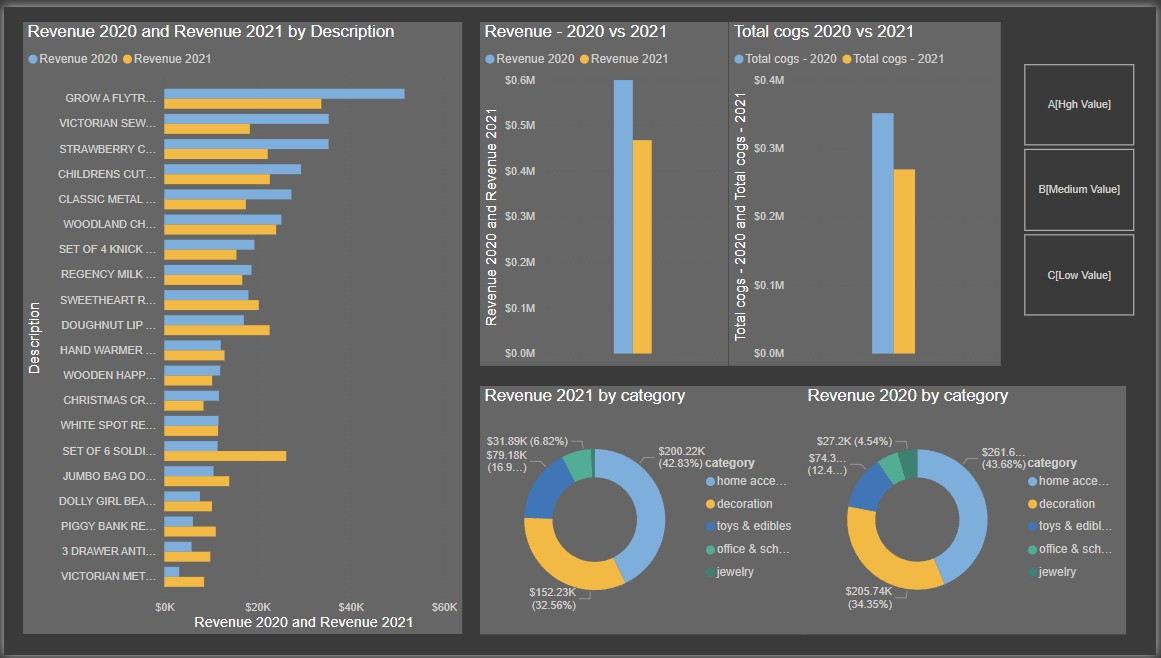

The dashboard page shown, as its layout file describes it:
{"tool":"powerbi","page":{"name":"2021 vs 2020","canvas":[1280,720],"ordinal":1},"visuals":[{"type":"clusteredBarChart","fields":{"Category":["Stock.Description"],"Y":["Sum(Stock.Revenue_2020)","Sum(Stock.Revenue_2021)"]},"box":[20.8,17,487.6,680.3],"z":0},{"type":"clusteredColumnChart","title":"Revenue - 2020 vs 2021","fields":{"Y":["Sum(Stock.Revenue_2020)","Sum(Stock.Revenue_2021)"]},"box":[529.1,17,275.9,381.7],"z":1000},{"type":"donutChart","fields":{"Y":["Sum(Stock.Revenue_2021)"],"Category":["categories.category"]},"box":[529.1,421.5,361,275.8],"z":2000,"group":"g1"},{"type":"slicer","fields":{"Values":["ABC.ABC_class"]},"box":[1107.4,56.7,172,292.9],"z":2000},{"type":"donutChart","fields":{"Category":["categories.category"],"Y":["Sum(Stock.Revenue_2020)"]},"box":[888.1,421.4,359.1,275.8],"z":3000,"group":"g1"},{"type":"clusteredColumnChart","title":"Total cogs 2020 vs 2021","fields":{"Y":["Sum(Stock.Total_cogs_2020)","Sum(Stock.Total_cogs)"]},"box":[805,17,302.4,381.7],"z":3000},{"type":"group","id":"g1","title":"Group 1","box":[529.1,421.4,718.1,275.9],"z":4000}]}

Visuals, with their boxes in screenshot pixels (x1, y1, x2, y2), scaled from the page's 1280x720 canvas onto the 1161x658 screenshot:
clusteredBarChart - Stock.Description x Sum(Stock.Revenue_2020): (19, 16, 461, 637)
"Revenue - 2020 vs 2021" clusteredColumnChart: (480, 16, 730, 364)
donutChart - Sum(Stock.Revenue_2021) x categories.category: (480, 385, 807, 637)
slicer - ABC.ABC_class: (1004, 52, 1160, 319)
donutChart - categories.category x Sum(Stock.Revenue_2020): (806, 385, 1131, 637)
"Total cogs 2020 vs 2021" clusteredColumnChart: (730, 16, 1004, 364)
"Group 1" group: (480, 385, 1131, 637)
